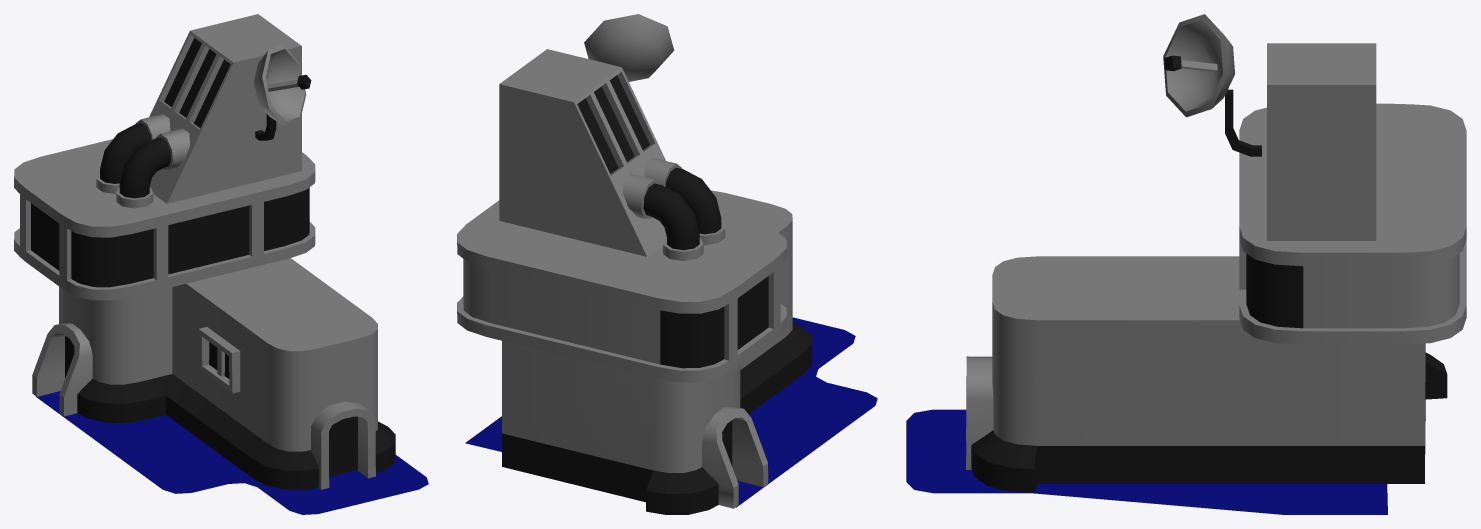
Rendered from miner_center_base.fbx.
3 renders of one model, left to right at view 1: azimuth 30°, elevation 25°; view 2: azimuth 150°, elevation 25°; view 3: azimuth 270°, elevation 25°, orthographic. The views are drawn at different scales.
Visible parts, largest first — view 1: Box020, Line022; view 2: Box020, Line022; view 3: Box020, Line022.
Part boxes in pixels (bbox=[...]): Box020: bbox=[14, 14, 395, 489]; Line022: bbox=[35, 391, 428, 514]; Box020: bbox=[457, 14, 811, 514]; Line022: bbox=[465, 317, 877, 507]; Box020: bbox=[966, 14, 1466, 493]; Line022: bbox=[906, 409, 1387, 514].
Bounding box in the file's own units: 64.18 × 87.55 × 99.02.
